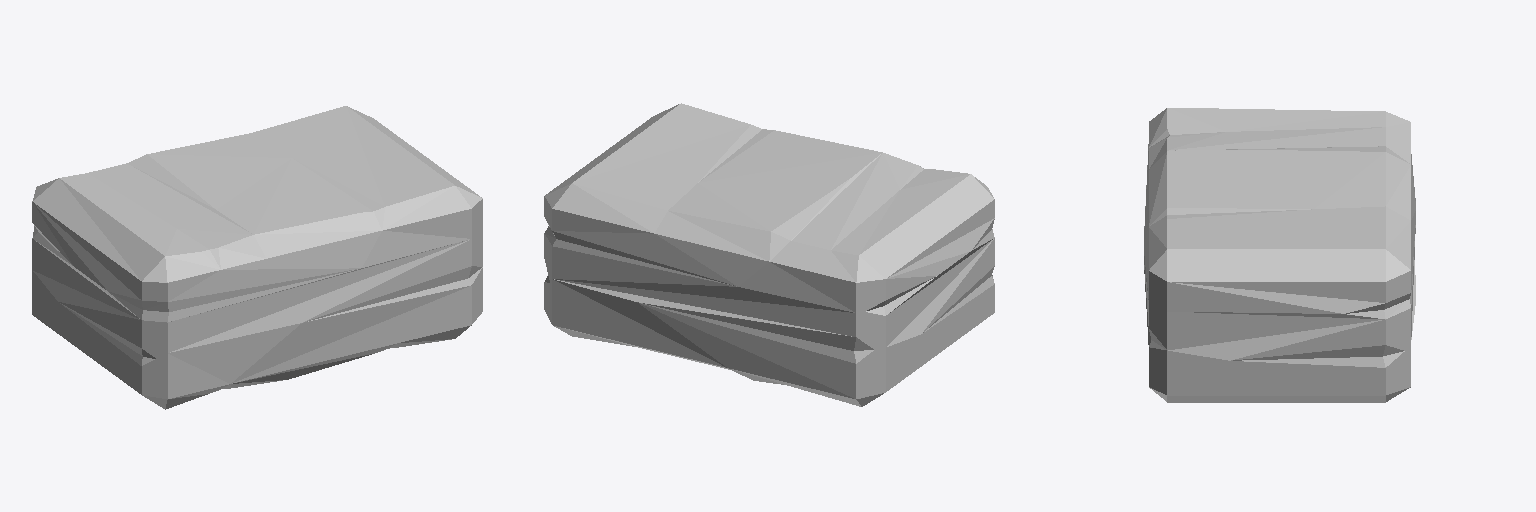
File: SM_Prop_Hay_Bale_Square_Plastic_01.obj
The picture shows the model from 3 angles: view 1: azimuth 30°, elevation 25°; view 2: azimuth 150°, elevation 25°; view 3: azimuth 270°, elevation 25°; orthographic projection.
Bounding box in the file's own units: 163 × 68.12 × 110.